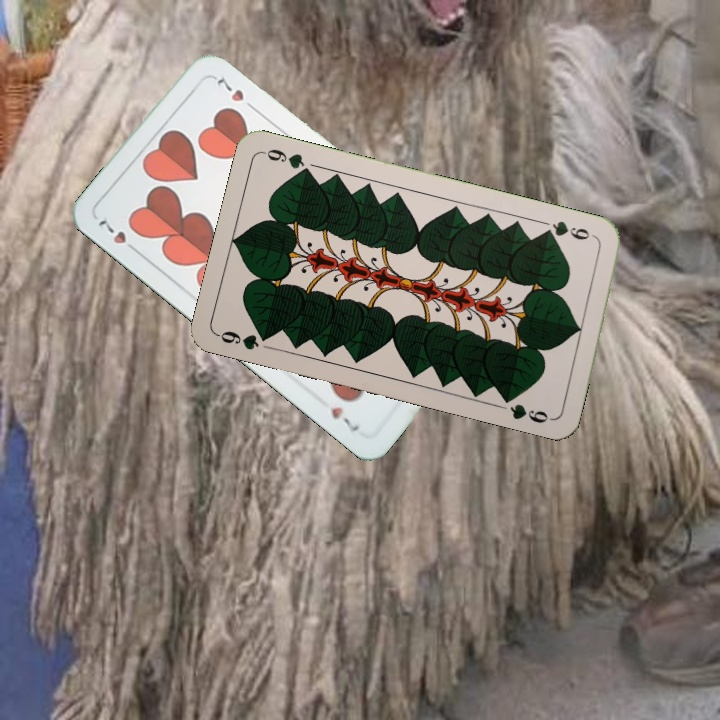G9: (214, 327, 275, 353), (539, 217, 599, 243)
H7: (93, 215, 142, 256)
